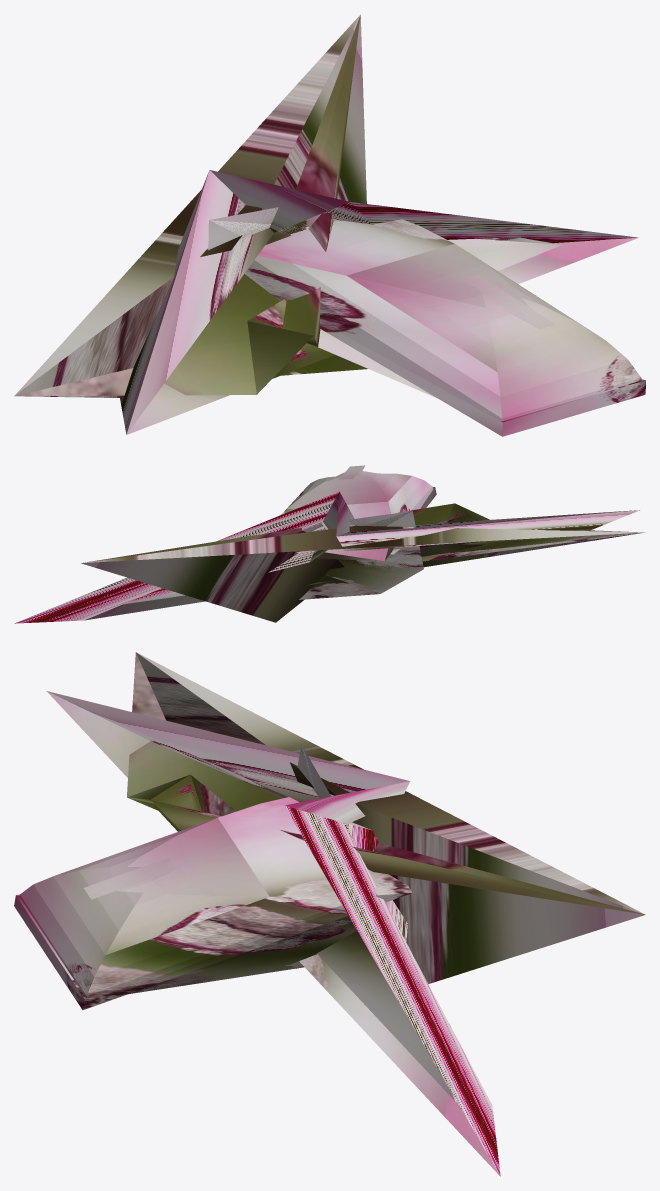
Rendered from flor6.gltf.
3 renders of one model, top to bottom at view 1: azimuth 30°, elevation 25°; view 2: azimuth 150°, elevation 25°; view 3: azimuth 270°, elevation 25°, orthographic. The views are drawn at different scales.
Visible parts, largest first — view 1: Cube; view 2: Cube; view 3: Cube.
Boxes of the visible parts, bbox=[...] form: Cube: bbox=[14, 14, 645, 436]; Cube: bbox=[14, 465, 645, 623]; Cube: bbox=[14, 652, 645, 1176].
Bounding box in the file's own units: 8.04 × 2.16 × 6.1.
1 material, 1 textured.
